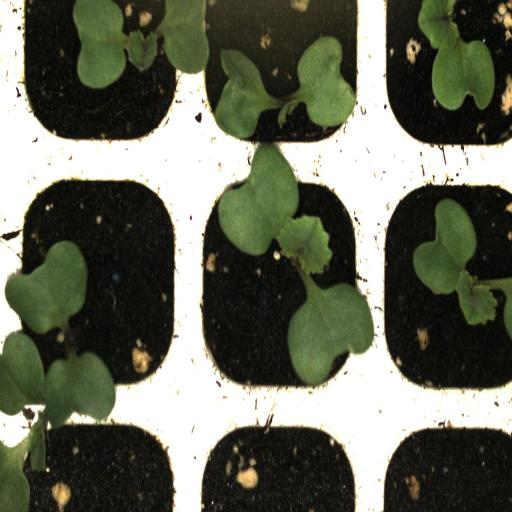seedling: (192, 166, 372, 408), (372, 166, 512, 409), (8, 0, 190, 158)
twoseedling: (7, 167, 188, 414)
